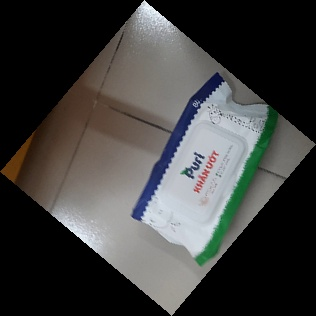Puri Trang: (129, 72, 280, 268)
